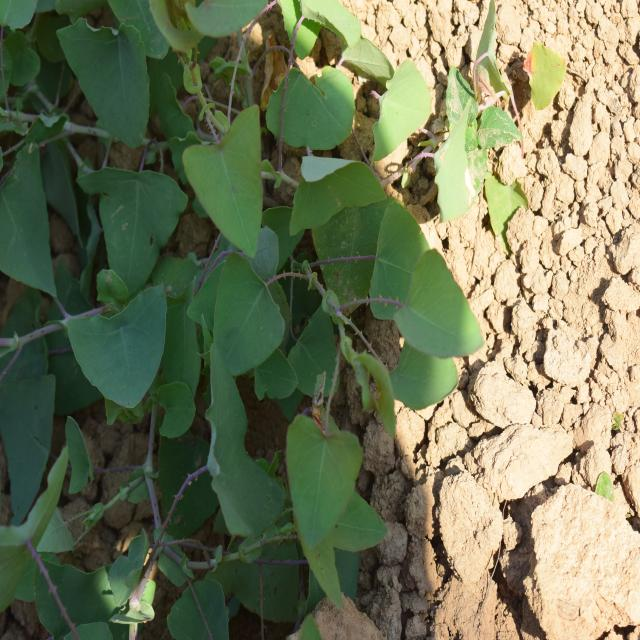Asiatic_Smartweed: (276, 148, 472, 402), (158, 86, 300, 414), (49, 3, 182, 330), (58, 267, 189, 476)
